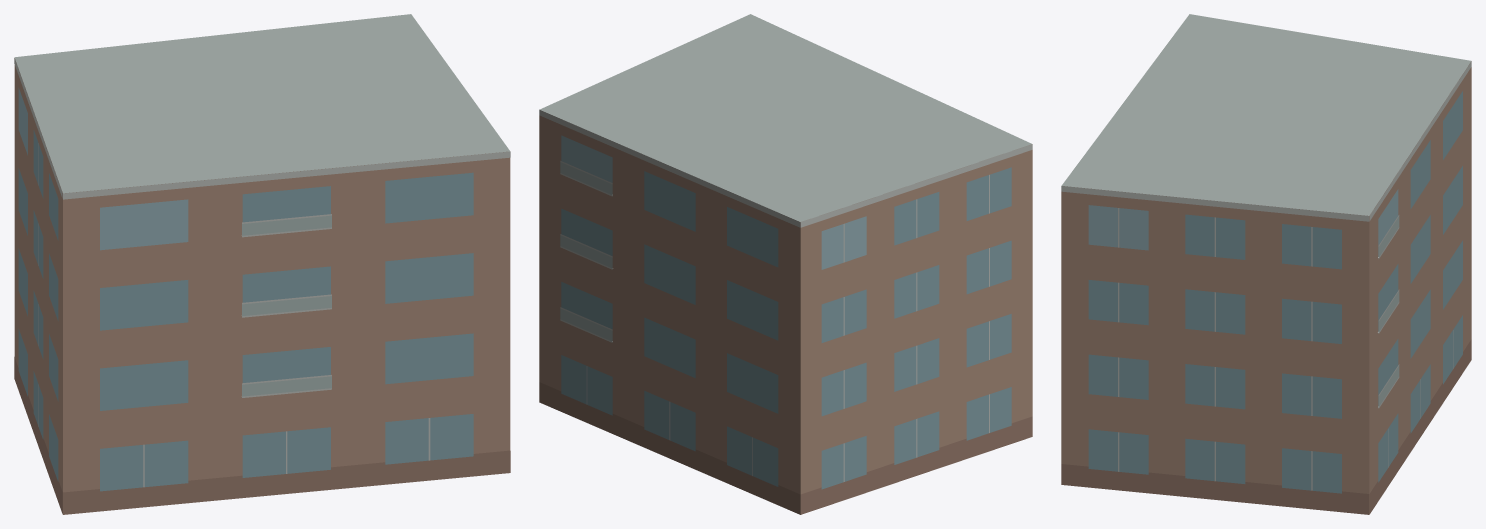
File: survey-upis-32676488.glb
3 renders of one model, left to right at view 1: azimuth 30°, elevation 25°; view 2: azimuth 150°, elevation 25°; view 3: azimuth 270°, elevation 25°, orthographic. The views are drawn at different scales.
Visible parts, largest first — view 1: survey-upis-32676488.tmp; view 2: survey-upis-32676488.tmp; view 3: survey-upis-32676488.tmp.
Boxes of the visible parts, x1=… form: survey-upis-32676488.tmp: x1=14, y1=14, x2=510, y2=514; survey-upis-32676488.tmp: x1=539, y1=14, x2=1032, y2=514; survey-upis-32676488.tmp: x1=1061, y1=14, x2=1471, y2=514.
Size of the model in its own units: 18.11 by 12.5 by 15.55.
